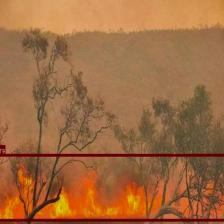fire: (0, 154, 224, 220)
